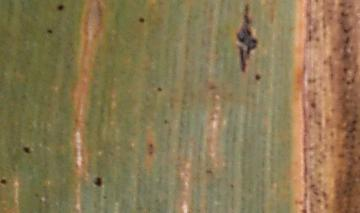tarspot: (236, 3, 256, 72), (93, 174, 103, 188), (308, 97, 317, 108), (22, 145, 32, 154), (253, 72, 261, 81), (137, 15, 146, 23), (56, 3, 65, 11), (203, 167, 212, 175), (208, 83, 217, 91), (341, 26, 350, 34), (343, 35, 350, 45), (46, 26, 53, 35), (351, 117, 357, 126), (1, 177, 8, 184), (162, 117, 169, 124), (339, 10, 346, 17), (342, 66, 348, 74), (300, 207, 308, 213), (156, 86, 163, 92), (148, 142, 154, 149), (147, 149, 154, 155), (229, 182, 235, 189), (345, 78, 351, 85)
